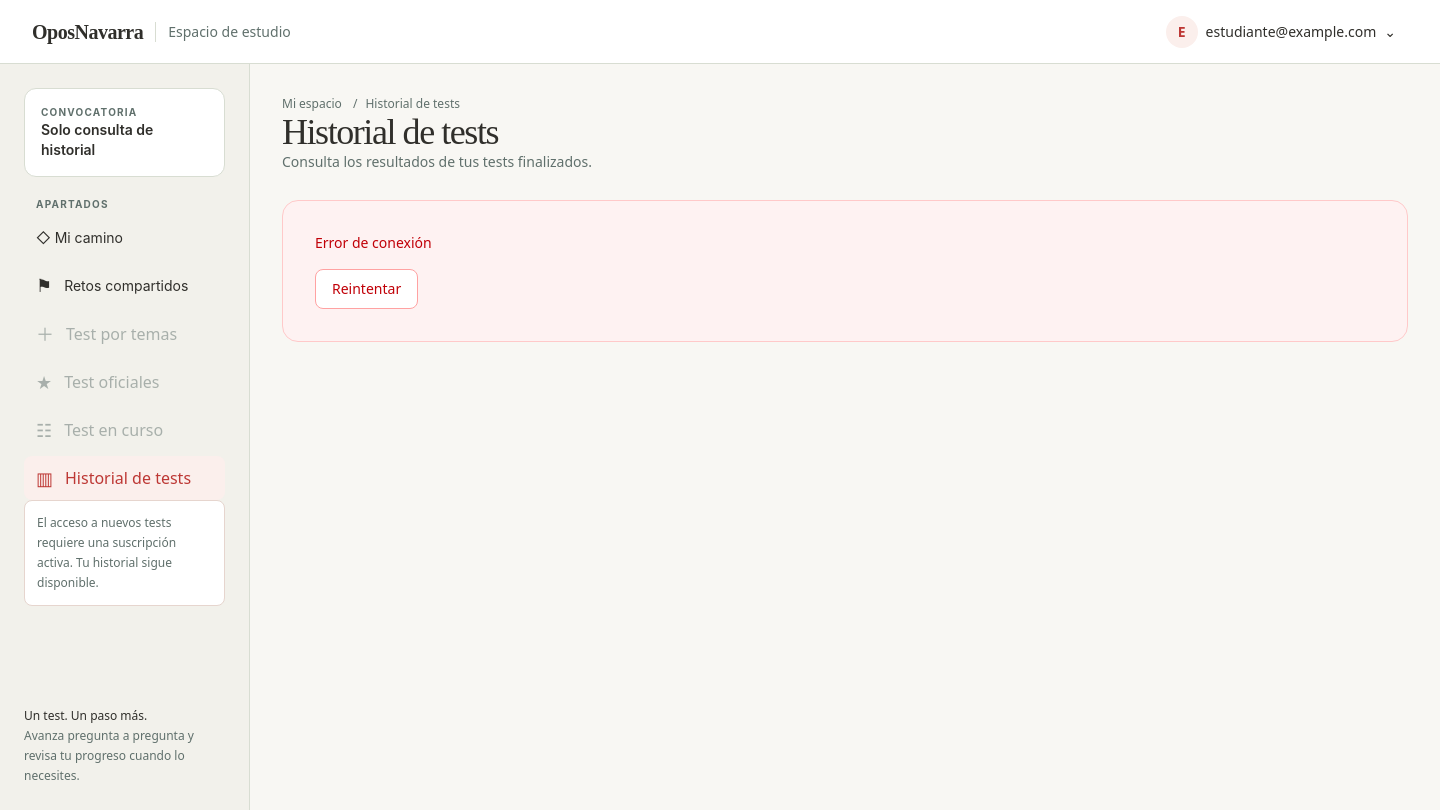
Test: TestPlatform › shows a recoverable error instead of an empty-history state when loading fails
Expected: the text "Error de conexión" is shown, [315, 233, 432, 252]
Expected: the text "Historial vacío" is not shown
Click the button "Reintentar": (367, 289) [315, 269, 418, 309]
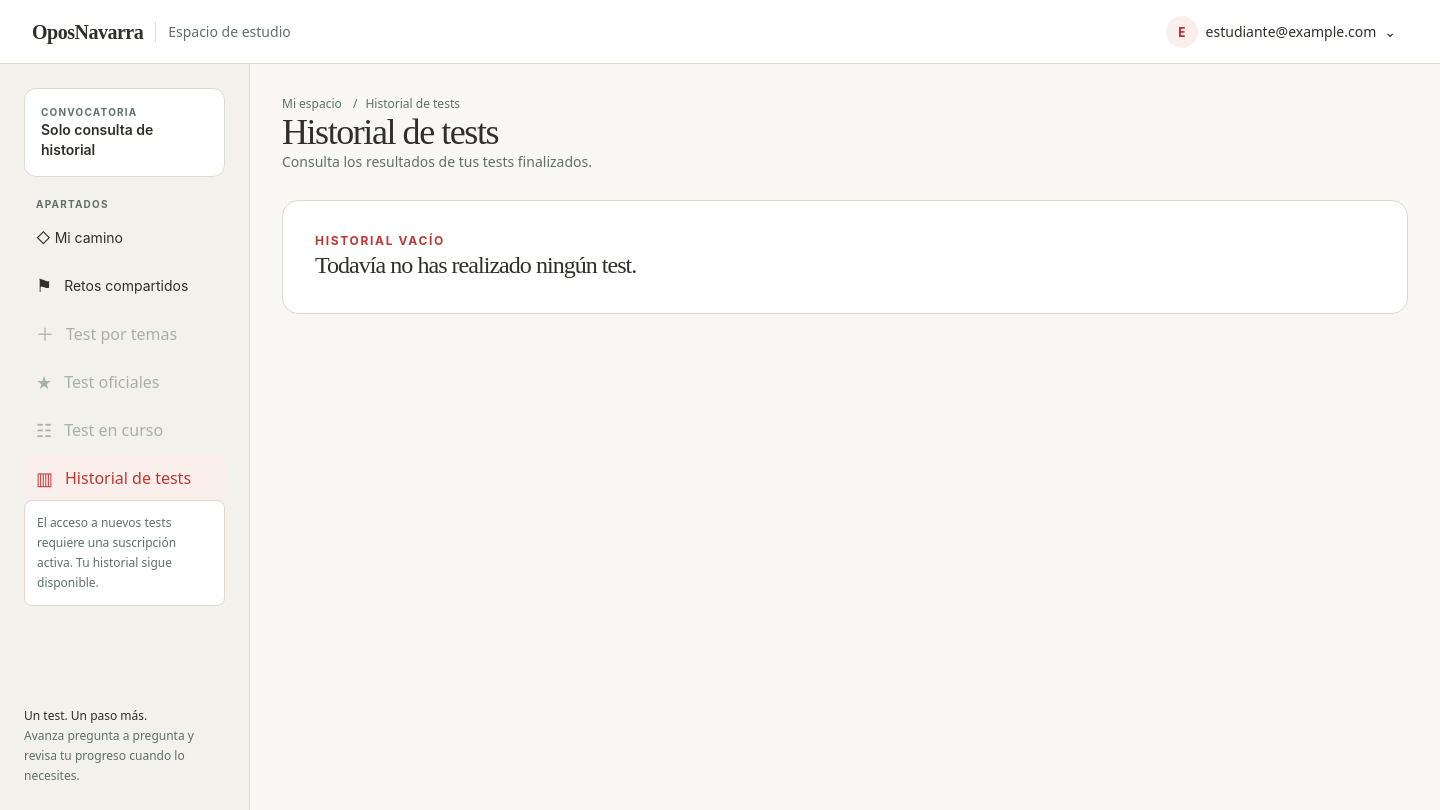
Result: the text "Historial vacío" is shown at [315, 233, 445, 248]
